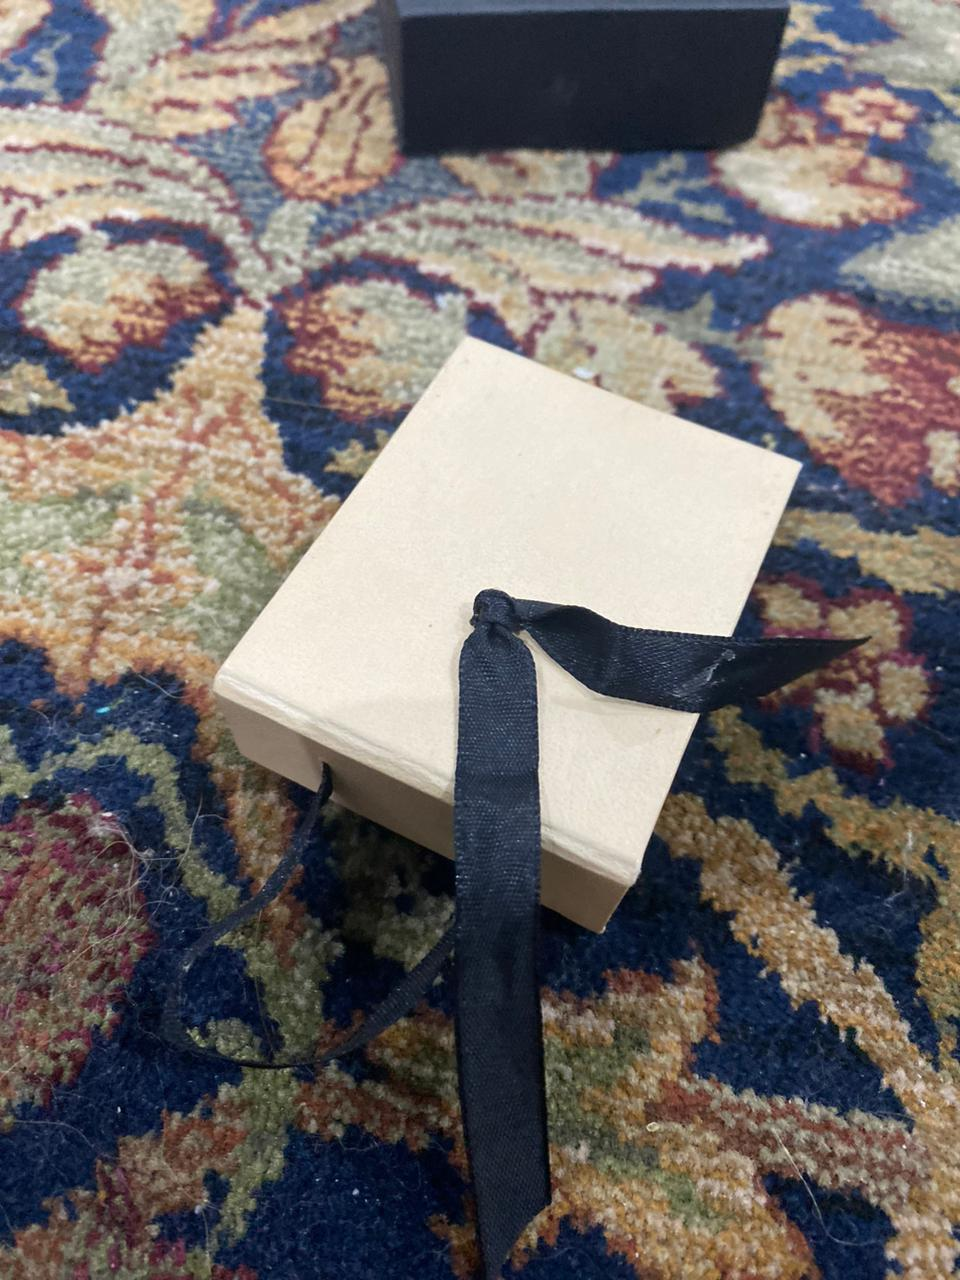Red Box: (364, 1, 799, 165)
Yellow Box: (202, 335, 812, 944)
